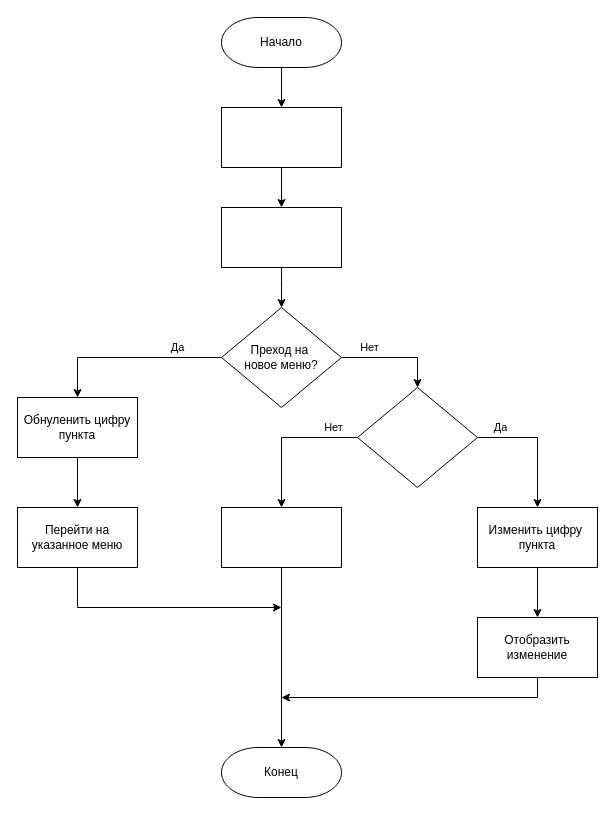
This 615x815 diagram has some shape labels left out. Each missing label, with the centre of its shape:
В меню есть пункты?: point (417, 437)
Выбор текущего меню: point (281, 137)
Изменить текущее меню по коду клавиши: point (281, 537)
Определение действия по коду клавиши: point (281, 237)
